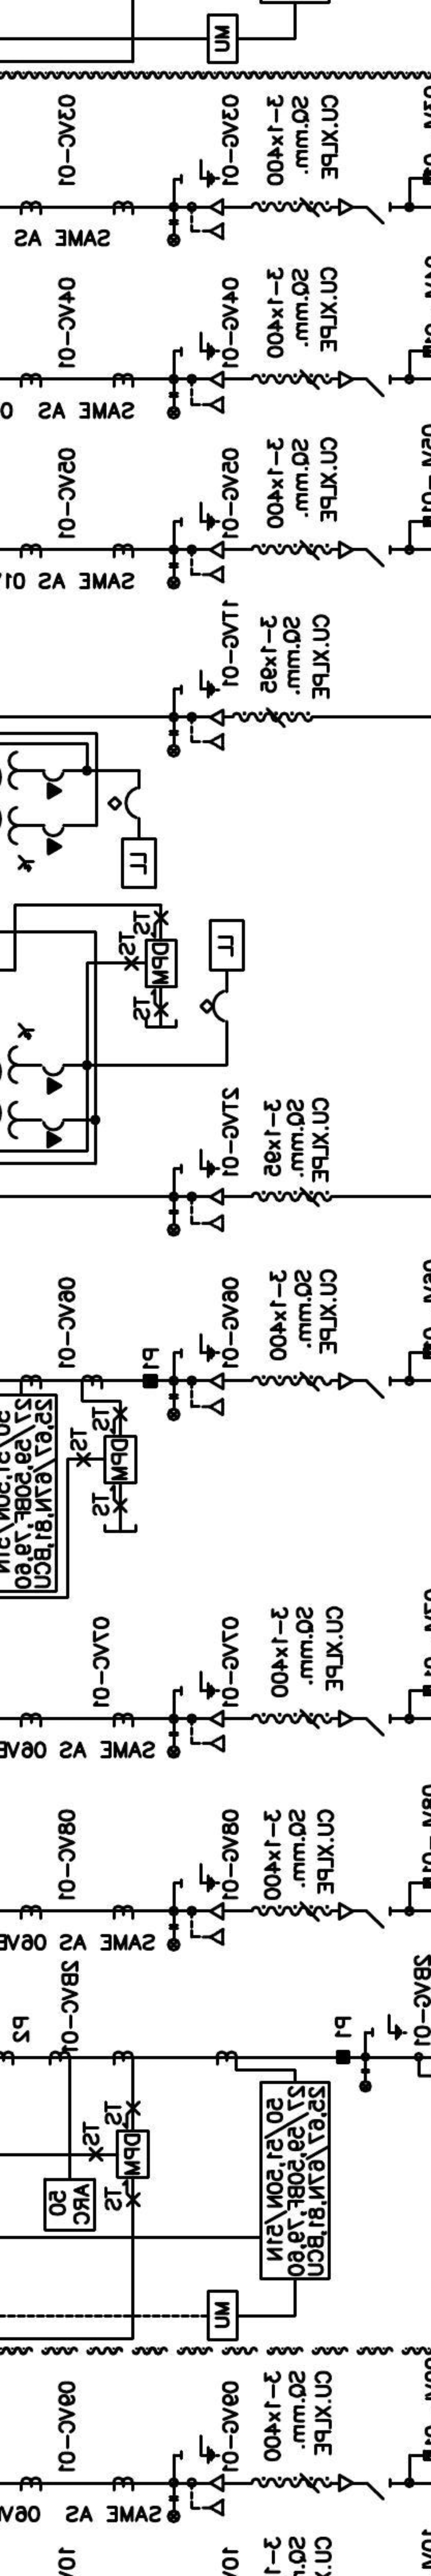22_gs: (179, 2433, 220, 2466), (179, 158, 220, 189), (179, 330, 220, 361), (179, 501, 220, 532), (179, 669, 220, 700), (179, 1148, 220, 1180), (179, 1332, 220, 1364), (179, 1669, 220, 1700), (179, 1863, 220, 1894), (370, 2014, 408, 2042)
22_ll: (166, 218, 181, 248), (166, 391, 181, 421), (166, 729, 181, 759), (166, 1393, 181, 1423), (166, 1730, 181, 1759), (166, 2494, 181, 2523), (166, 562, 181, 590), (166, 1209, 181, 1237), (166, 1924, 181, 1952), (359, 2068, 372, 2095)
DPM: (102, 1434, 138, 1485), (115, 2129, 151, 2178), (145, 938, 179, 989)
LL: (120, 836, 158, 890), (207, 918, 245, 973)
MU: (206, 13, 240, 64), (206, 2290, 240, 2341)
terminator_single: (337, 370, 355, 389), (337, 539, 354, 560), (337, 1709, 354, 1730), (337, 1901, 354, 1922), (337, 2472, 354, 2494), (337, 197, 354, 217), (337, 1372, 354, 1391)
terminator_w_future: (189, 197, 225, 243), (189, 370, 225, 416), (189, 540, 225, 586), (189, 1188, 225, 1234), (189, 1372, 225, 1418), (189, 2472, 225, 2518), (189, 708, 225, 752), (189, 1709, 225, 1753), (189, 1902, 225, 1947)
